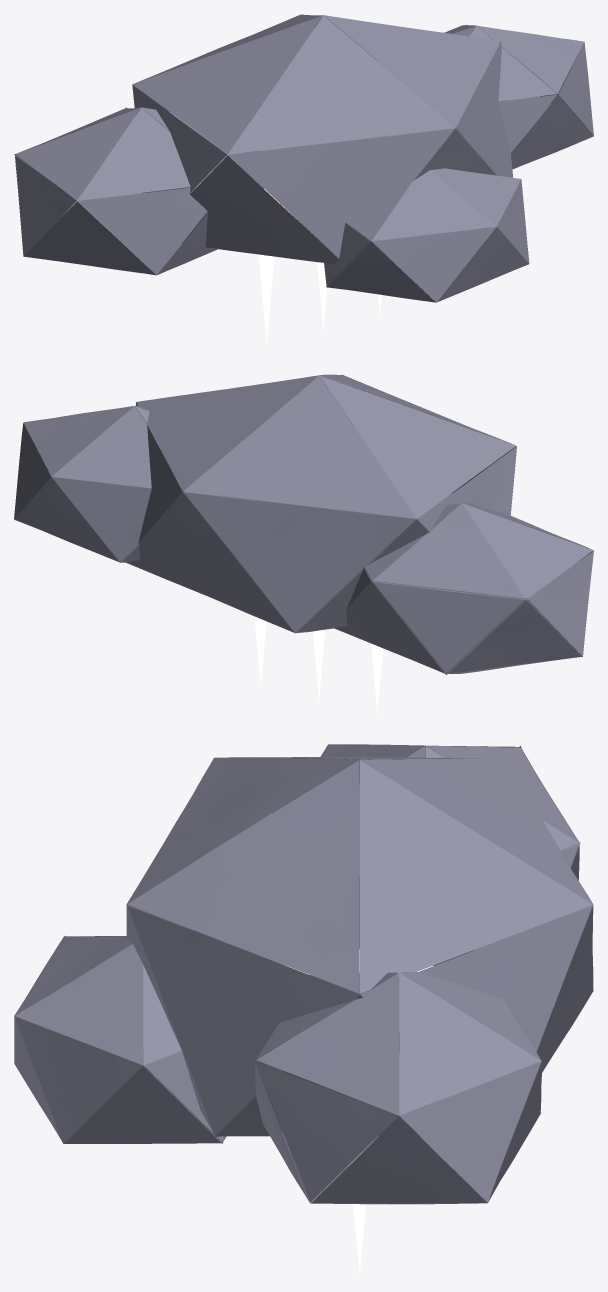
The model's file is cloud_storm.glb.
The picture shows the model from 3 angles, top to bottom: view 1: azimuth 30°, elevation 25°; view 2: azimuth 150°, elevation 25°; view 3: azimuth 270°, elevation 25°; orthographic projection. The views are drawn at different scales.
Parts seen in each view (by area): view 1: StormPuff0; view 2: StormPuff0; view 3: StormPuff0.
Part boxes in pixels (left/top/right/bottom): StormPuff0: left=14, top=14, right=593, bottom=345; StormPuff0: left=14, top=374, right=593, bottom=714; StormPuff0: left=14, top=744, right=593, bottom=1275.
Size of the model in its own units: 2.93 by 1.6 by 1.77.
